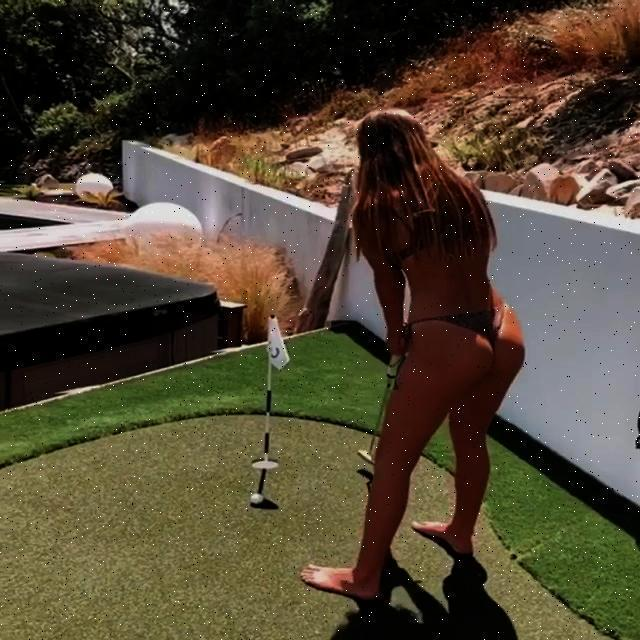ClubHead: (357, 450, 373, 465)
GolfBall: (248, 494, 265, 504)
